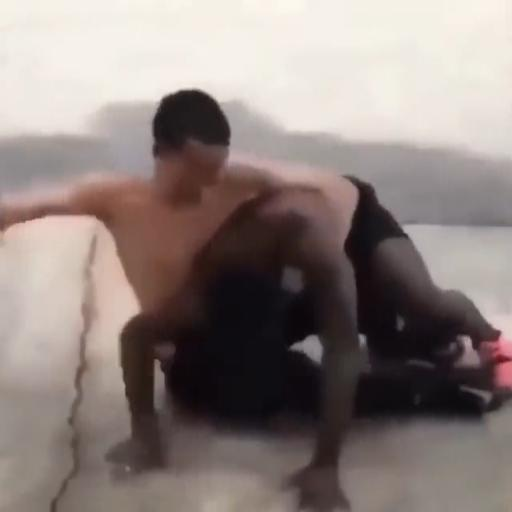violencia: (0, 63, 512, 512)
